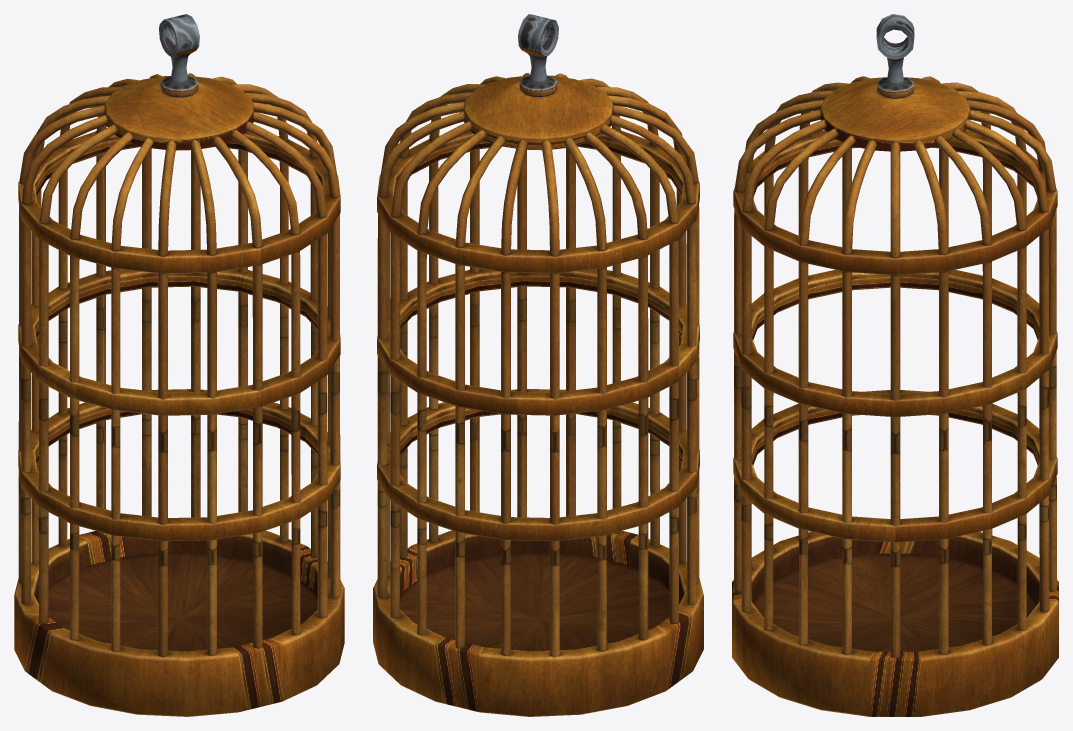
The model's file is Birdcage.fbx.
3 views of the same model, side by side, from view 1: azimuth 30°, elevation 25°; view 2: azimuth 150°, elevation 25°; view 3: azimuth 270°, elevation 25° (orthographic).
Parts seen in each view (by area): view 1: birdcage1; view 2: birdcage1; view 3: birdcage1.
Boxes of the visible parts, bbox=[...] form: birdcage1: bbox=[14, 14, 344, 716]; birdcage1: bbox=[373, 14, 703, 716]; birdcage1: bbox=[732, 14, 1058, 716].
Size of the model in its own units: 98.81 by 210 by 98.81.
